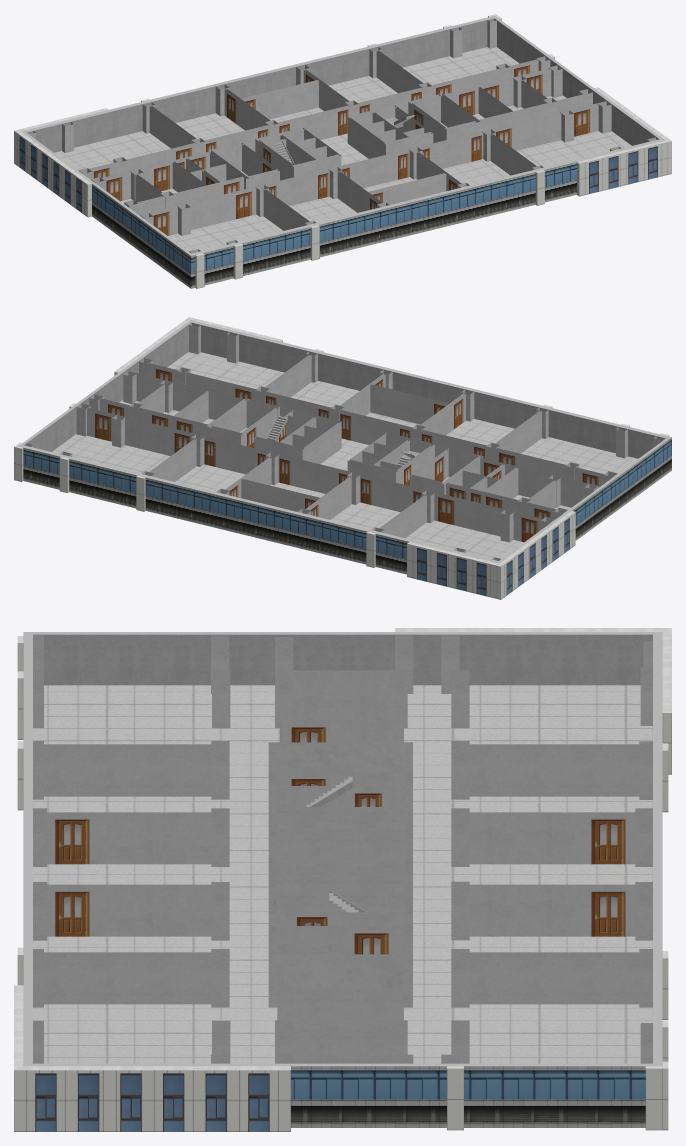
3 views of the same model, one above another, from view 1: azimuth 30°, elevation 25°; view 2: azimuth 150°, elevation 25°; view 3: azimuth 270°, elevation 25° (orthographic). The views are drawn at different scales.
Parts seen in each view (by area): view 1: 5c; view 2: 5c; view 3: 5c.
Part boxes in pixels (box(x1,y1,x2,y2)): 5c: box(14, 14, 671, 288); 5c: box(14, 317, 671, 599); 5c: box(14, 628, 671, 1131).
Size of the model in its own units: 56.65 by 4.55 by 35.63.
12 materials, 10 textured.
